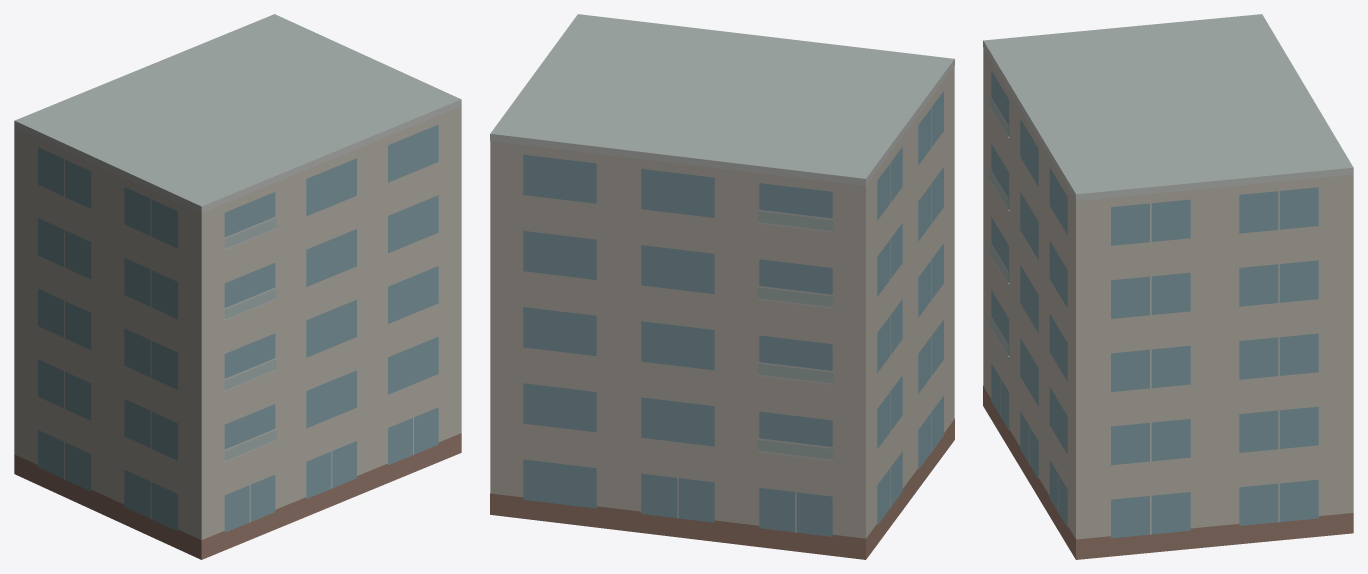
File: survey-upis-32813389.glb
The picture shows the model from 3 angles, left to right: view 1: azimuth 30°, elevation 25°; view 2: azimuth 150°, elevation 25°; view 3: azimuth 270°, elevation 25°; orthographic projection. The views are drawn at different scales.
Visible parts, largest first — view 1: survey-upis-32813389.tmp; view 2: survey-upis-32813389.tmp; view 3: survey-upis-32813389.tmp.
Part boxes in pixels (bbox=[...]): survey-upis-32813389.tmp: bbox=[14, 14, 461, 559]; survey-upis-32813389.tmp: bbox=[490, 14, 954, 559]; survey-upis-32813389.tmp: bbox=[983, 14, 1353, 559].
Bounding box in the file's own units: 13.76 × 13 × 11.95.
